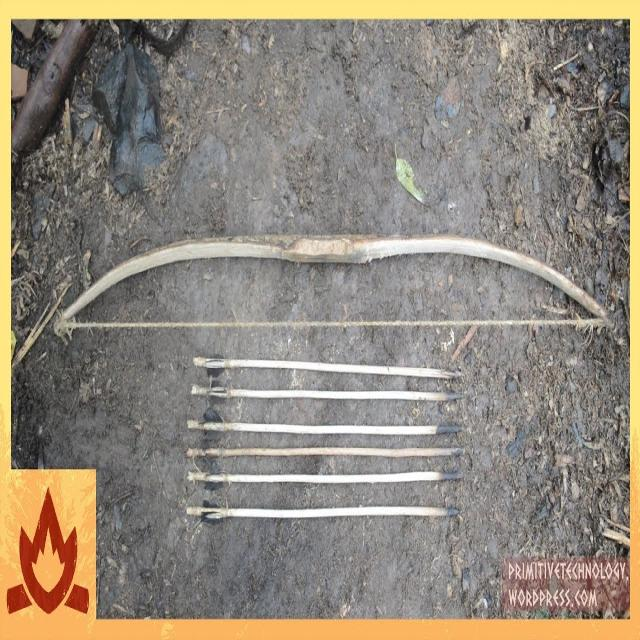X-Bow: (44, 220, 624, 363)
